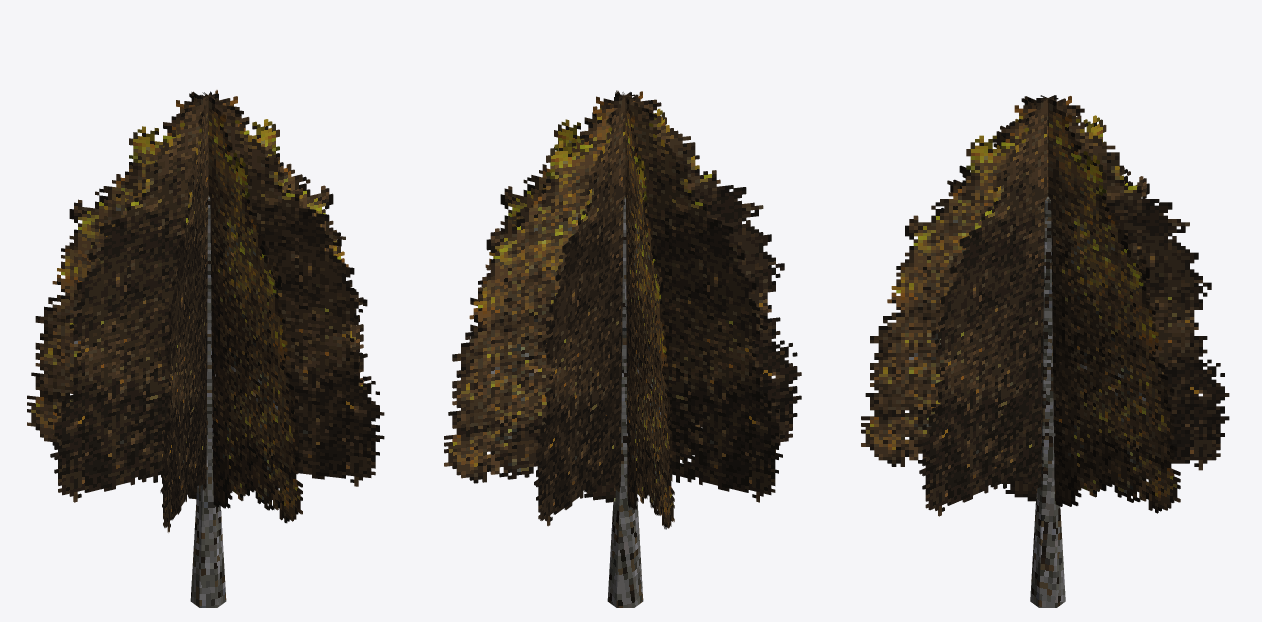
Rendered from tree33.glb.
3 renders of one model, left to right at view 1: azimuth 30°, elevation 25°; view 2: azimuth 150°, elevation 25°; view 3: azimuth 270°, elevation 25°, orthographic.
Parts seen in each view (by area): view 1: tree33; view 2: tree33; view 3: tree33.
Boxes of the visible parts, x1=… form: tree33: x1=27, y1=90, x2=384, y2=607; tree33: x1=444, y1=90, x2=801, y2=607; tree33: x1=861, y1=95, x2=1229, y2=607.
Size of the model in its own units: 5.76 by 8 by 5.76.
Materials: 1 (1 with a texture image).
